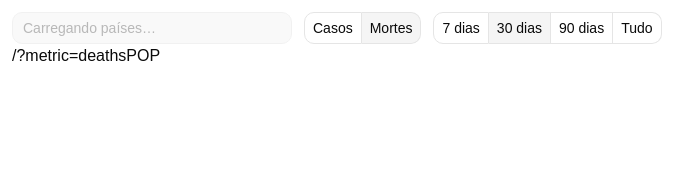
Test case: DashboardControls › writes the period to the URL and keeps the metric
Click the radio button labelled "90 dias": [582, 28] box 551,12 -> 613,44
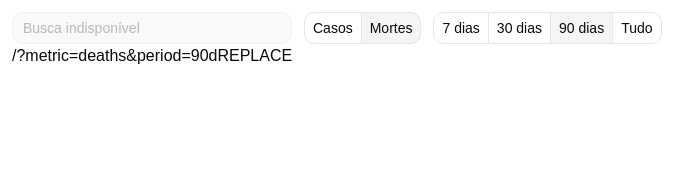
Result: the text with test id "location" reads "/?metric=deaths&period=90d" at 12,47 -> 218,64
